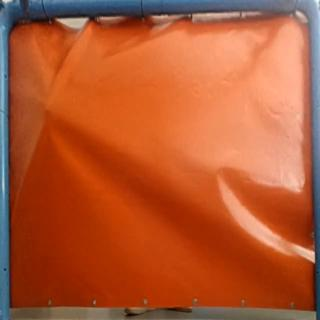Hit-hRxx: (38, 104, 57, 118)
